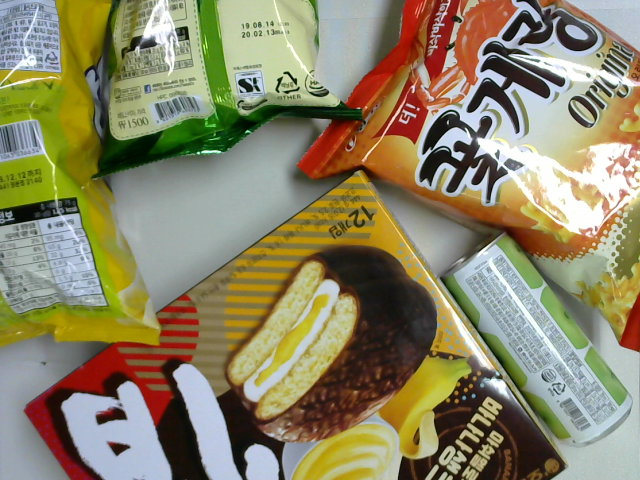Choco_Pie_Banana: (19, 165, 569, 480)
Crabrang: (289, 1, 638, 361)
Demisoda_Apple_Can_250ml: (440, 226, 634, 452)
Grilled_Onions: (91, 1, 368, 180)
Oninon_Ring: (1, 1, 166, 350)
